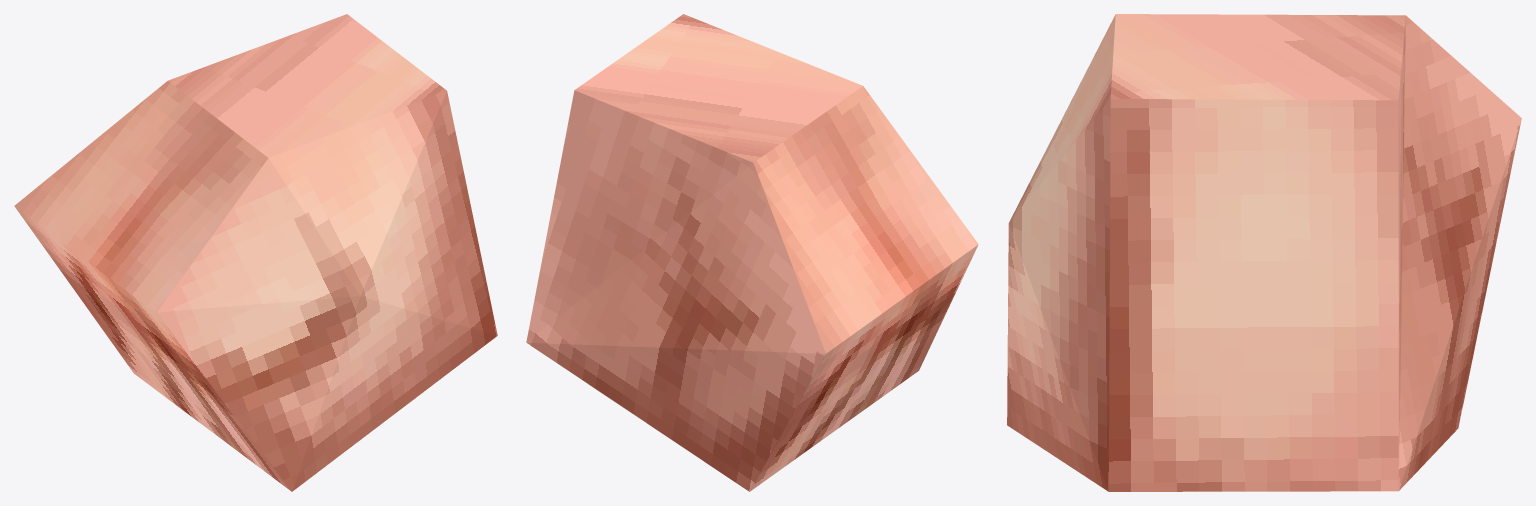
File: bro_hand.glb
3 renders of one model, left to right at view 1: azimuth 30°, elevation 25°; view 2: azimuth 150°, elevation 25°; view 3: azimuth 270°, elevation 25°, orthographic. The views are drawn at different scales.
Parts seen in each view (by area): view 1: Bro.007; view 2: Bro.007; view 3: Bro.007.
Part boxes in pixels (box(x1,y1,x2,y2)): Bro.007: box(14, 14, 497, 491); Bro.007: box(526, 14, 978, 491); Bro.007: box(1007, 14, 1521, 491).
Size of the model in its own units: 0.1998 by 0.185 by 0.1881.
Materials: 1 (1 with a texture image).
